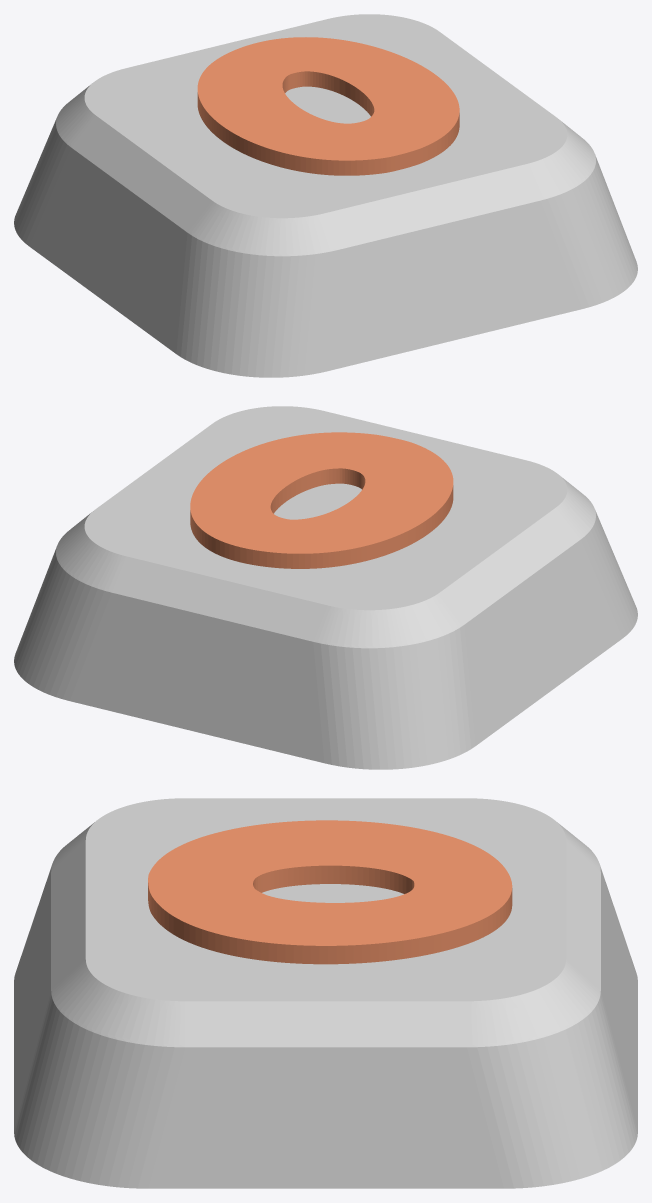
Rendered from cap-O.glb.
3 views of the same model, one above another, from view 1: azimuth 30°, elevation 25°; view 2: azimuth 150°, elevation 25°; view 3: azimuth 270°, elevation 25° (orthographic). The views are drawn at different scales.
Parts seen in each view (by area): view 1: cap_0, glyph_1; view 2: cap_0, glyph_1; view 3: cap_0, glyph_1.
Boxes of the visible parts, x1,y1,x2,y2 form: cap_0: [14, 14, 637, 377]; glyph_1: [197, 37, 459, 175]; cap_0: [14, 406, 637, 769]; glyph_1: [190, 432, 453, 568]; cap_0: [14, 798, 637, 1188]; glyph_1: [148, 820, 512, 964].
Size of the model in its own units: 18 by 5.59 by 18.
